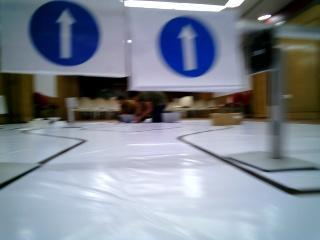straight: (127, 8, 247, 82), (3, 1, 125, 72)
